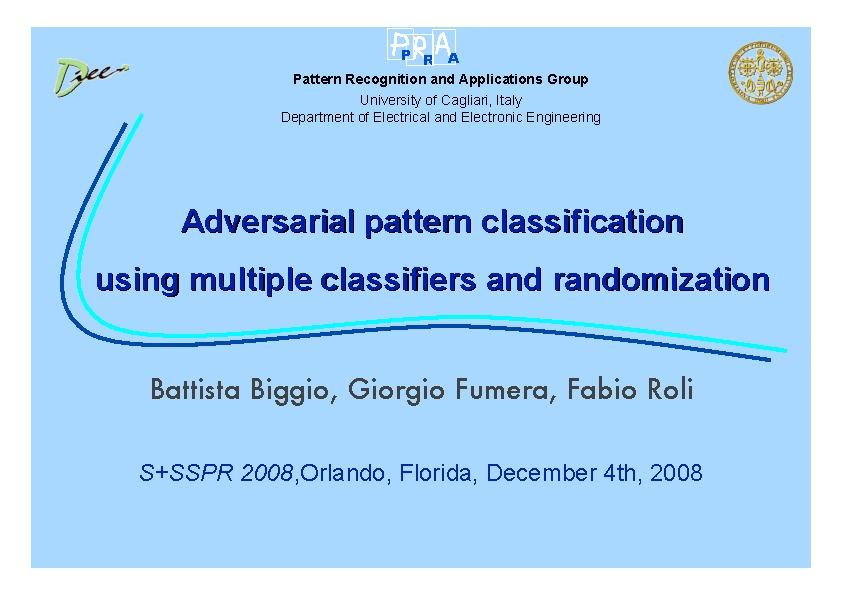subtitle: (125, 354, 729, 532), (87, 192, 791, 317)
title: (275, 63, 615, 140)
